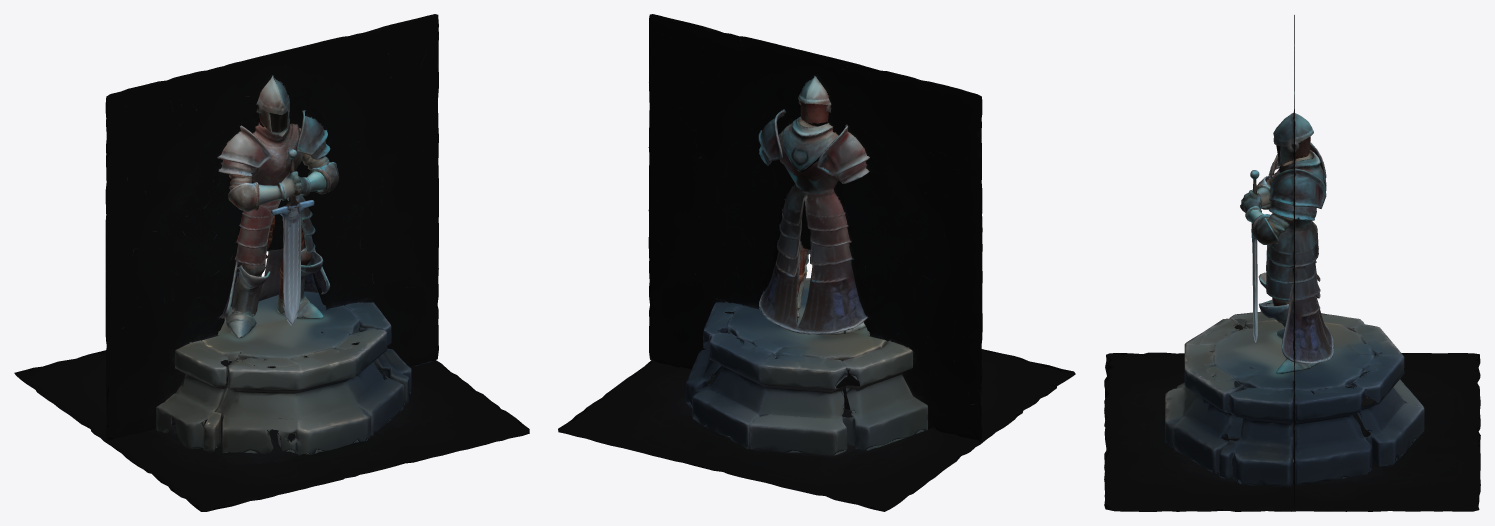
The model's file is delve_echo.glb.
3 renders of one model, left to right at view 1: azimuth 30°, elevation 25°; view 2: azimuth 150°, elevation 25°; view 3: azimuth 270°, elevation 25°, orthographic. The views are drawn at different scales.
Visible parts, largest first — view 1: geometry_0; view 2: geometry_0; view 3: geometry_0.
Boxes of the visible parts, <box> form: geometry_0: <box>14,14,529,511</box>; geometry_0: <box>558,14,1075,511</box>; geometry_0: <box>1104,15,1480,511</box>.
Bounding box in the file's own units: 1 × 1 × 1.
Materials: 1 (1 with a texture image).
